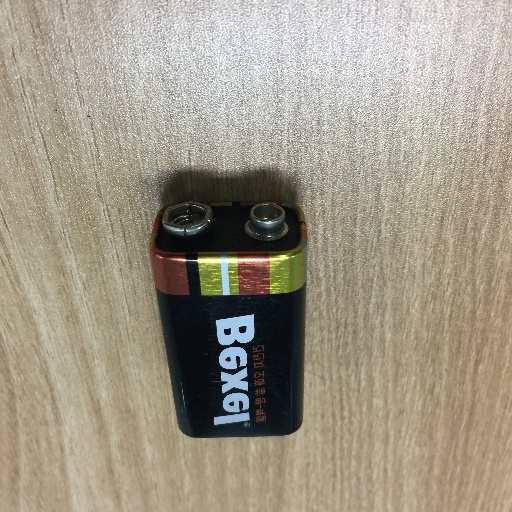Battery_3: (138, 176, 324, 454)
